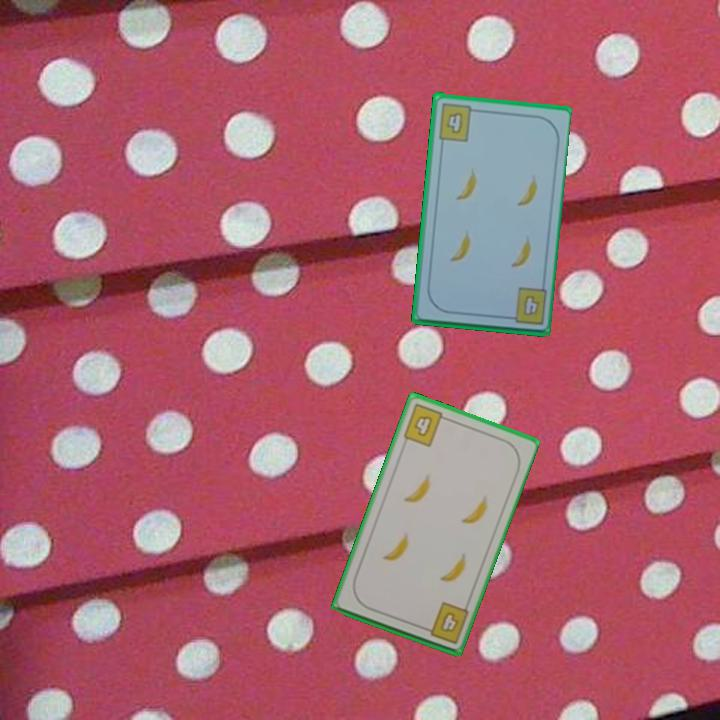4b: (399, 400, 452, 449), (419, 598, 472, 647), (502, 284, 549, 328), (435, 99, 480, 143)
